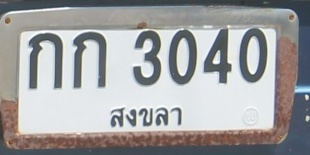txt01: (25, 31, 65, 92), (70, 30, 107, 92)
